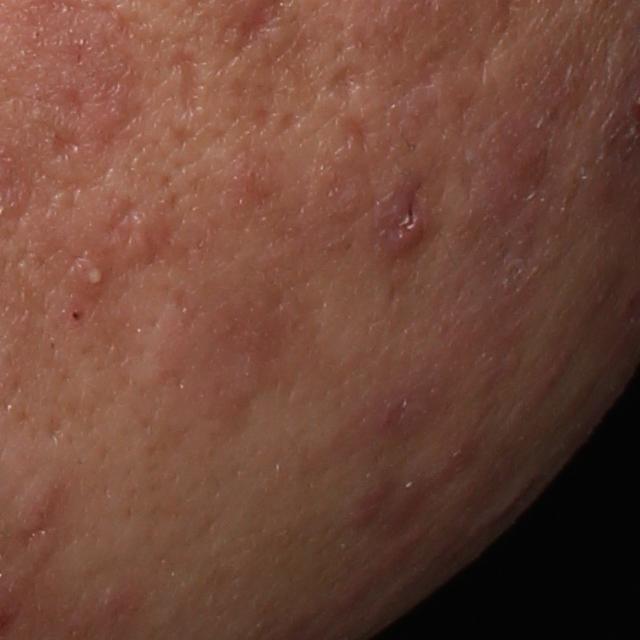atrophic_scar: (168, 46, 200, 121), (43, 117, 89, 165), (328, 61, 369, 107)
papule: (472, 118, 558, 218), (374, 182, 430, 261), (363, 388, 432, 445), (346, 480, 391, 529)
pustule: (70, 251, 111, 296)
